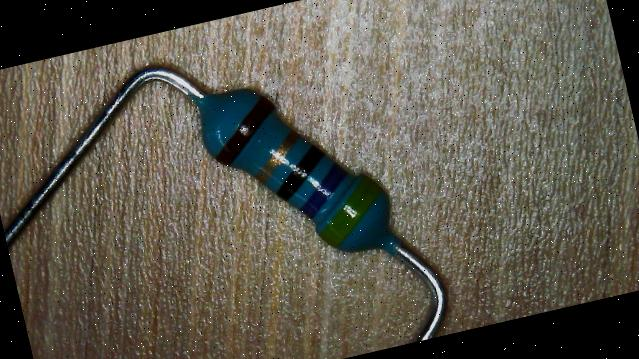black: (268, 143, 334, 201)
brown: (206, 94, 283, 166)
gold: (248, 130, 306, 182)
resistor: (159, 56, 438, 302)
violet: (292, 162, 354, 220)
yellow: (310, 173, 391, 248)
